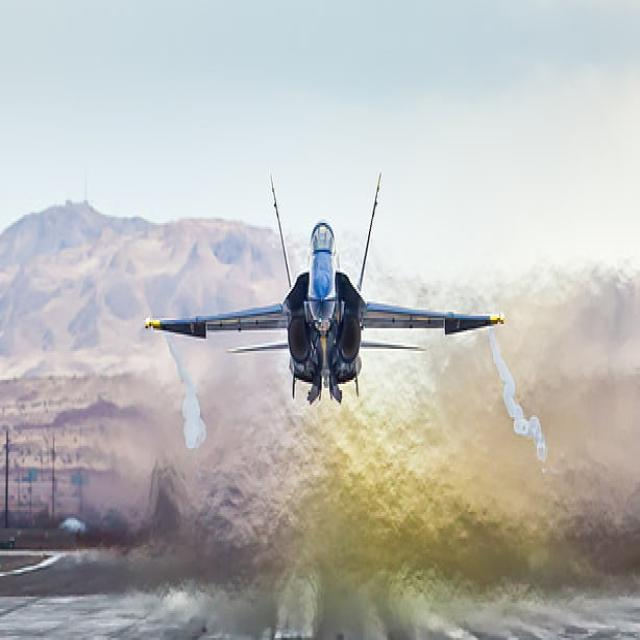MIL_Plane: (144, 171, 505, 405)
